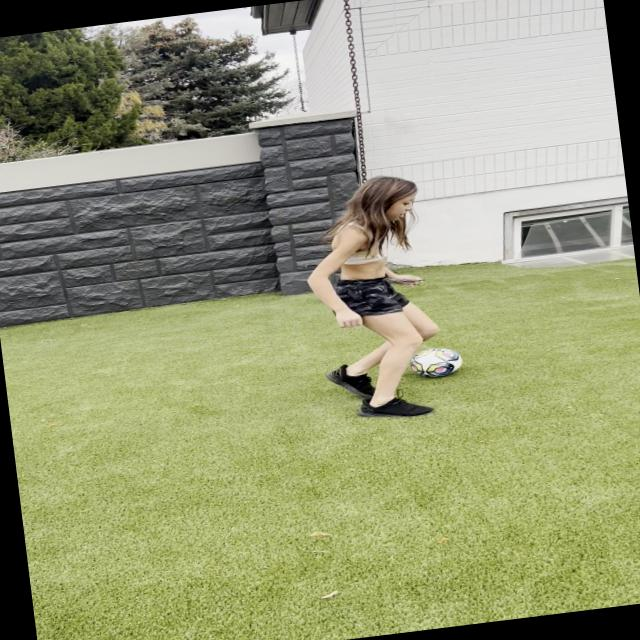Soccer Ball: (410, 344, 464, 380)
